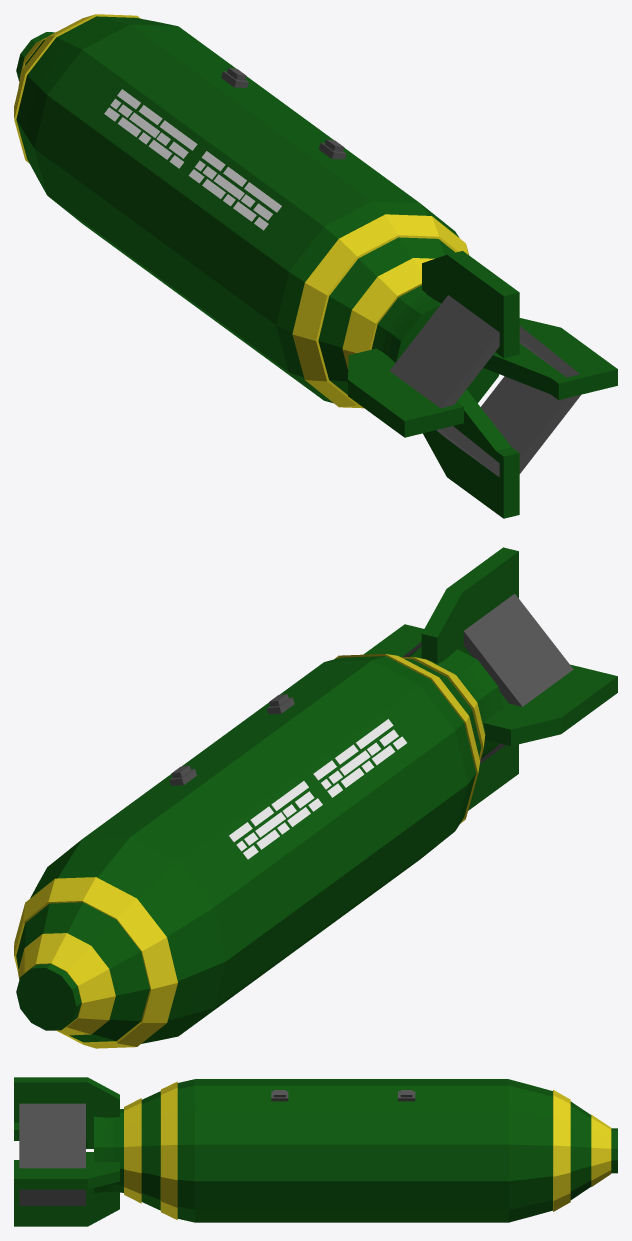
File: Bomb.fbx
The picture shows the model from 3 angles, top to bottom: view 1: azimuth 30°, elevation 25°; view 2: azimuth 150°, elevation 25°; view 3: azimuth 270°, elevation 25°; orthographic projection. The views are drawn at different scales.
Parts seen in each view (by area): view 1: Bomb; view 2: Bomb; view 3: Bomb.
Boxes of the visible parts, x1=… form: Bomb: x1=14, y1=14, x2=617, y2=518; Bomb: x1=14, y1=547, x2=617, y2=1048; Bomb: x1=14, y1=1077, x2=617, y2=1226.
Bounding box in the file's own units: 217 × 216 × 818.
